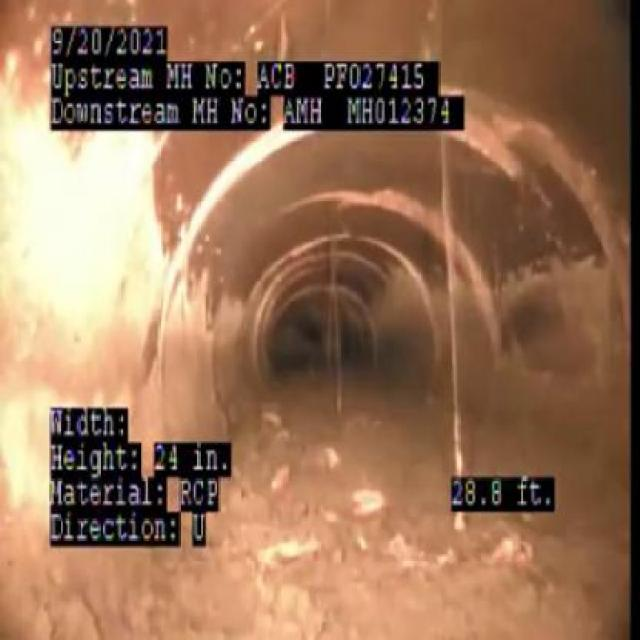Buckling: (464, 86, 574, 203), (182, 142, 308, 220)
